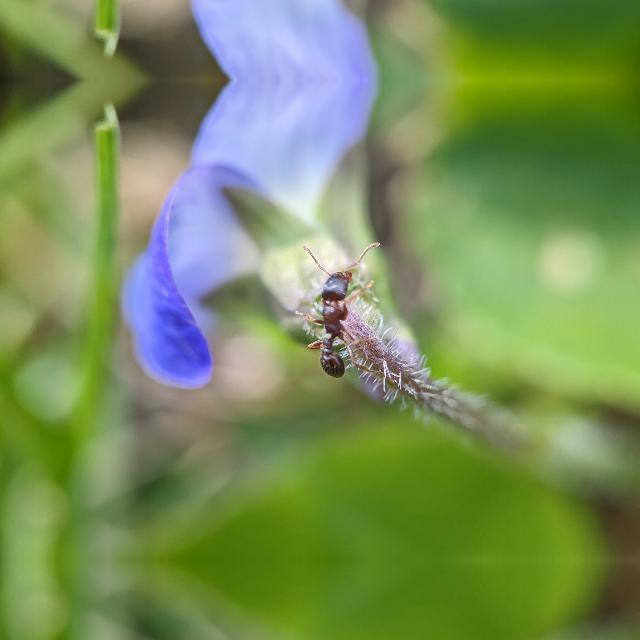Tetramorium: (293, 259, 375, 383)
